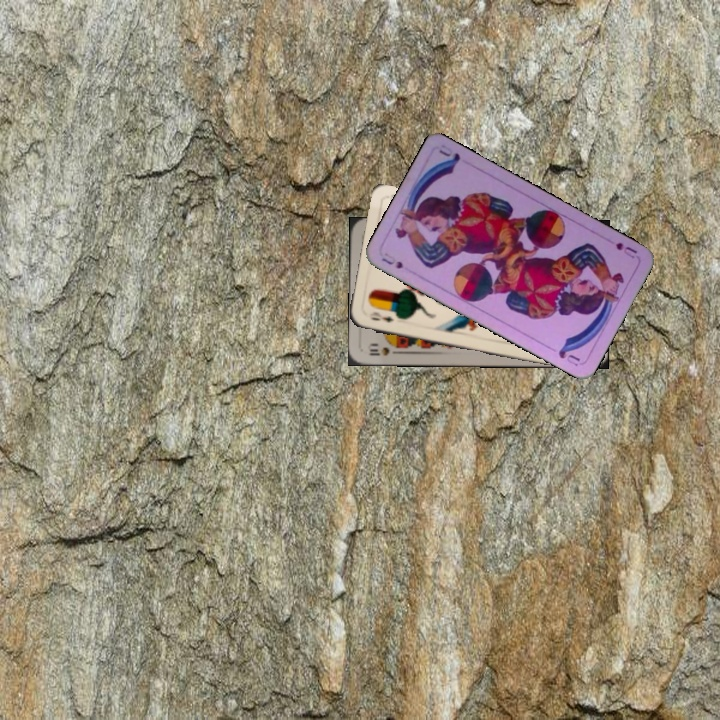EO: (365, 308, 396, 325)
S10: (364, 341, 403, 358)
SU: (378, 248, 406, 272), (611, 238, 640, 261)
